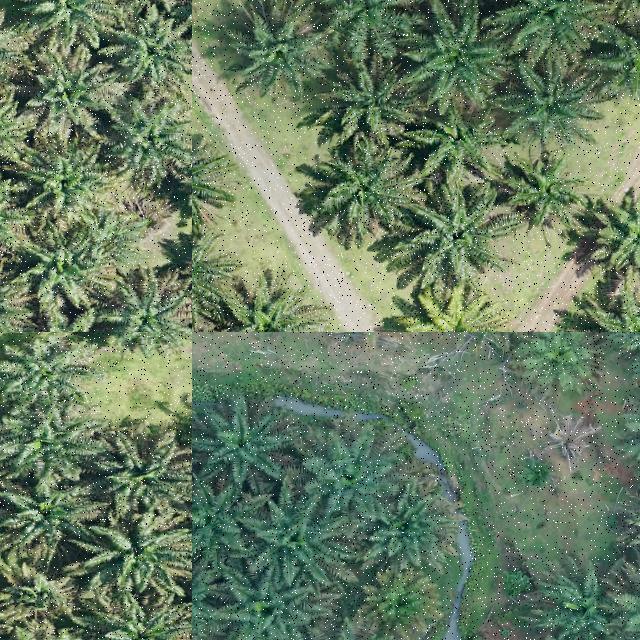Ganoderma: (414, 298, 493, 332), (548, 416, 590, 455)
